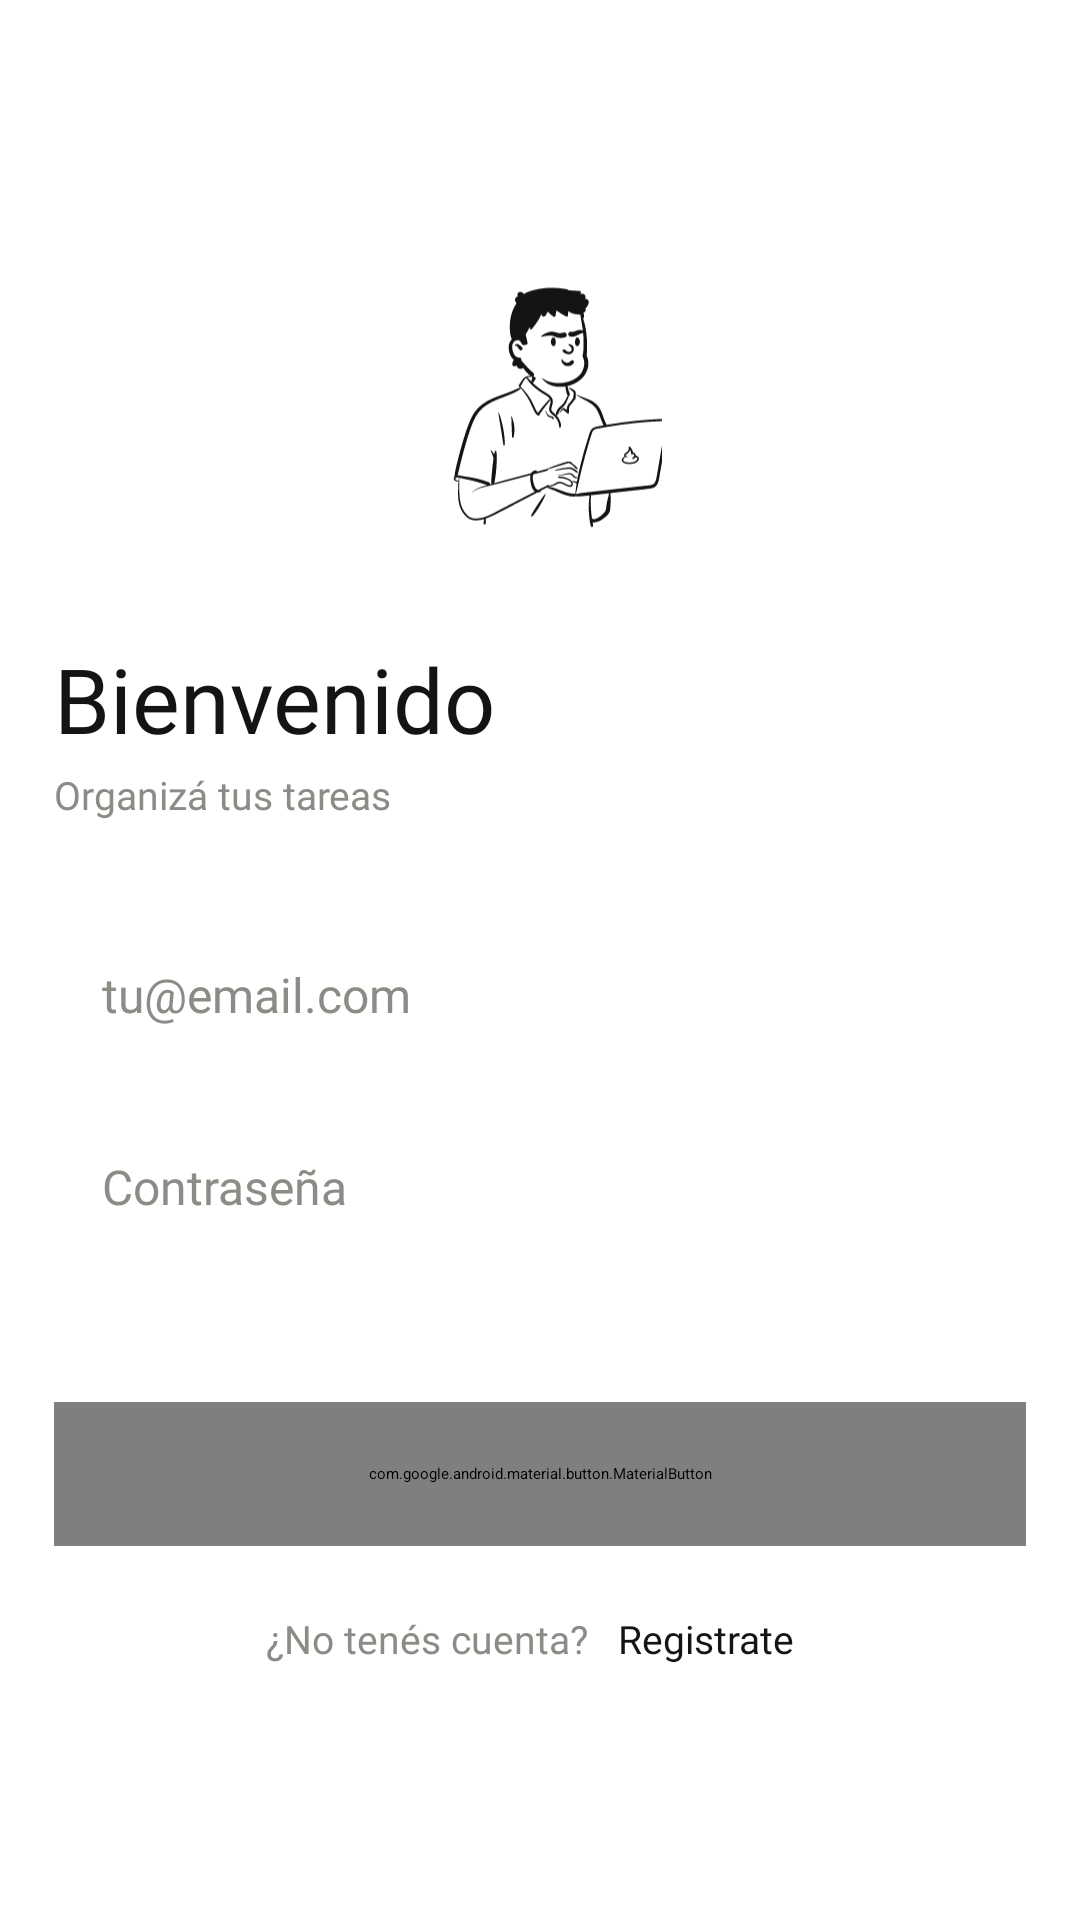

Screen size 1080w x 1920h. Icon name, then its center in pixels as [x,y]:
ilustracion login: [557,407]
